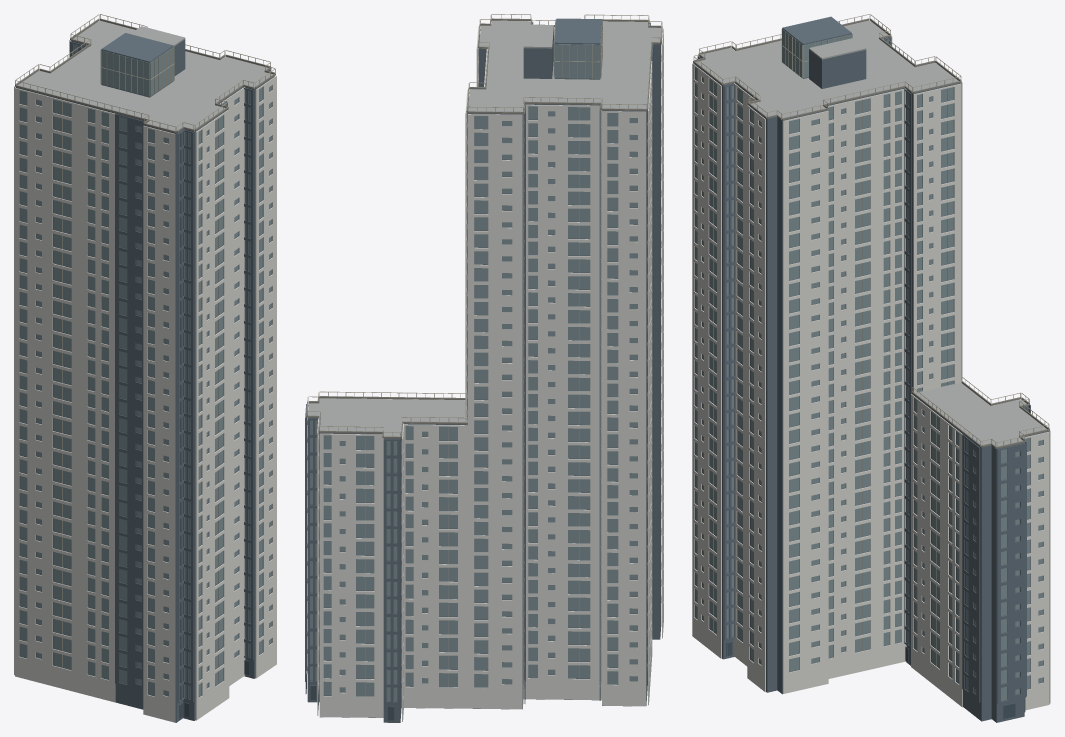
Rendered from bespoke-raemian-onebailey-106.glb.
3 views of the same model, side by side, from view 1: azimuth 30°, elevation 25°; view 2: azimuth 150°, elevation 25°; view 3: azimuth 270°, elevation 25° (orthographic). The views are drawn at different scales.
Parts seen in each view (by area): view 1: 106_pale_bays_navy_shafts001_4, 106_pale_bays_navy_shafts001, 106_editable_massing, 106_glass_roof_crown001_3, 106_pale_bays_navy_shafts001_2, 106_glass_roof_crown001; view 2: 106_pale_bays_navy_shafts001_4, 106_pale_bays_navy_shafts001, 106_editable_massing, 106_glass_roof_crown001_3, 106_pale_bays_navy_shafts001_2, 106_glass_roof_crown001; view 3: 106_pale_bays_navy_shafts001_4, 106_editable_massing, 106_pale_bays_navy_shafts001, 106_glass_roof_crown001_3, 106_pale_bays_navy_shafts001_2, 106_glass_roof_crown001.
Boxes of the visible parts, box(x1,y1,x2,y2) form: 106_pale_bays_navy_shafts001_4: box(14, 24, 276, 722); 106_pale_bays_navy_shafts001: box(19, 44, 271, 698); 106_editable_massing: box(16, 33, 274, 722); 106_glass_roof_crown001_3: box(18, 20, 272, 133); 106_pale_bays_navy_shafts001_2: box(15, 14, 275, 683); 106_glass_roof_crown001: box(15, 18, 275, 132); 106_pale_bays_navy_shafts001_4: box(317, 20, 663, 721); 106_pale_bays_navy_shafts001: box(307, 20, 661, 701); 106_editable_massing: box(305, 18, 661, 722); 106_glass_roof_crown001_3: box(308, 20, 661, 438); 106_pale_bays_navy_shafts001_2: box(306, 14, 662, 696); 106_glass_roof_crown001: box(306, 18, 662, 438); 106_pale_bays_navy_shafts001_4: box(692, 23, 1050, 710); 106_editable_massing: box(693, 16, 1048, 722); 106_pale_bays_navy_shafts001: box(695, 29, 1043, 700); 106_glass_roof_crown001_3: box(696, 20, 1046, 448); 106_pale_bays_navy_shafts001_2: box(693, 14, 1049, 665); 106_glass_roof_crown001: box(693, 18, 1049, 448).
Size of the model in its own units: 50.03 by 110 by 58.39.
